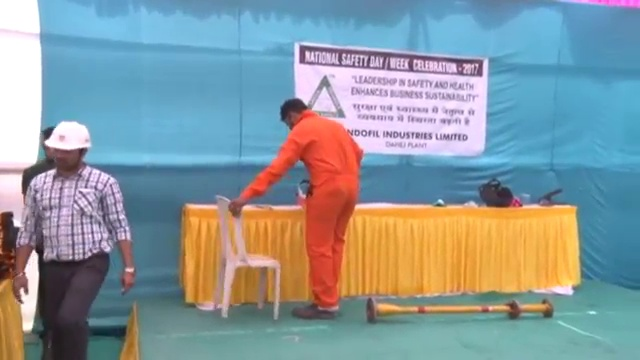helmet: (41, 119, 92, 151)
helmet_off: (278, 97, 311, 131)
helmet_on: (41, 119, 91, 173)
person: (231, 98, 370, 321), (12, 121, 136, 360)
